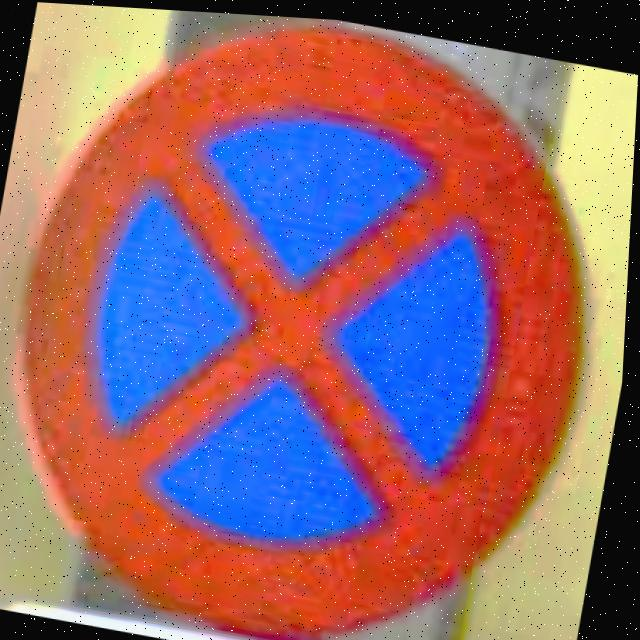nopark: (19, 16, 590, 640)
